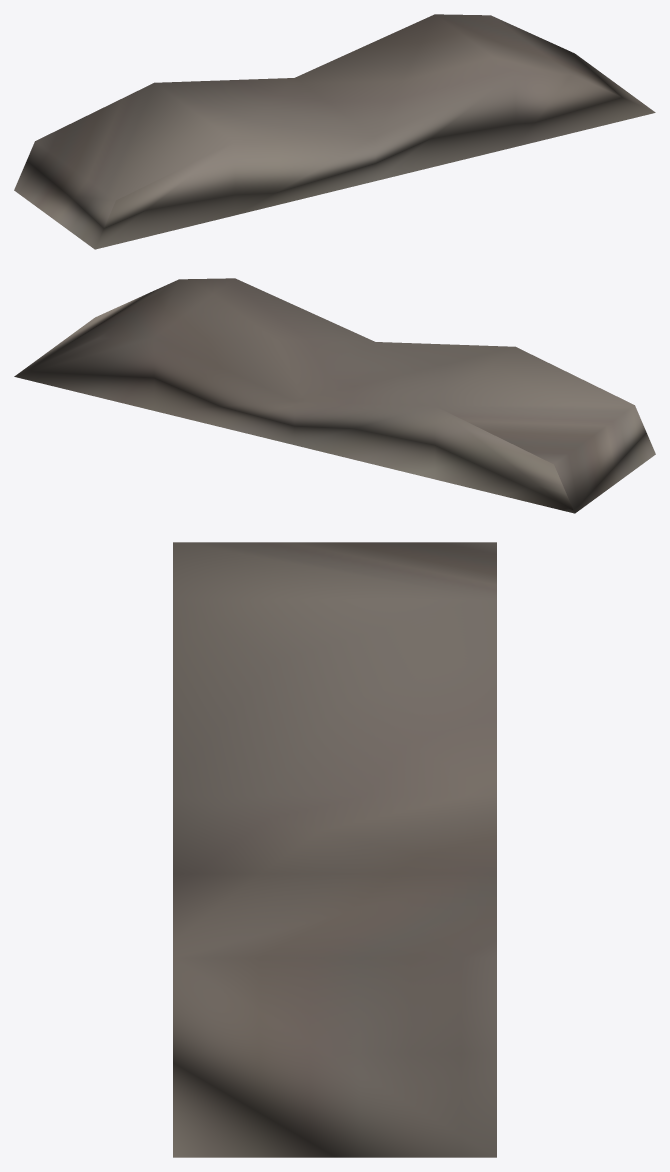
The model's file is ruin10.glb.
The picture shows the model from 3 angles, top to bottom: view 1: azimuth 30°, elevation 25°; view 2: azimuth 150°, elevation 25°; view 3: azimuth 270°, elevation 25°; orthographic projection. The views are drawn at different scales.
Visible parts, largest first — view 1: ruin10; view 2: ruin10; view 3: ruin10.
Boxes of the visible parts, x1,y1,x2,y2 form: ruin10: (14,14,655,249); ruin10: (14,278,655,513); ruin10: (173,542,496,1157).
Bounding box in the file's own units: 4 × 0.5 × 1.
Materials: 1 (1 with a texture image).
